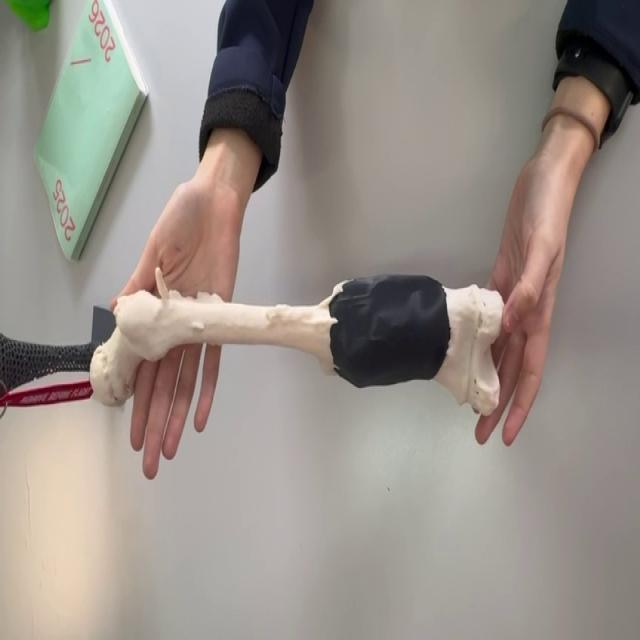bones: (90, 268, 503, 415)
